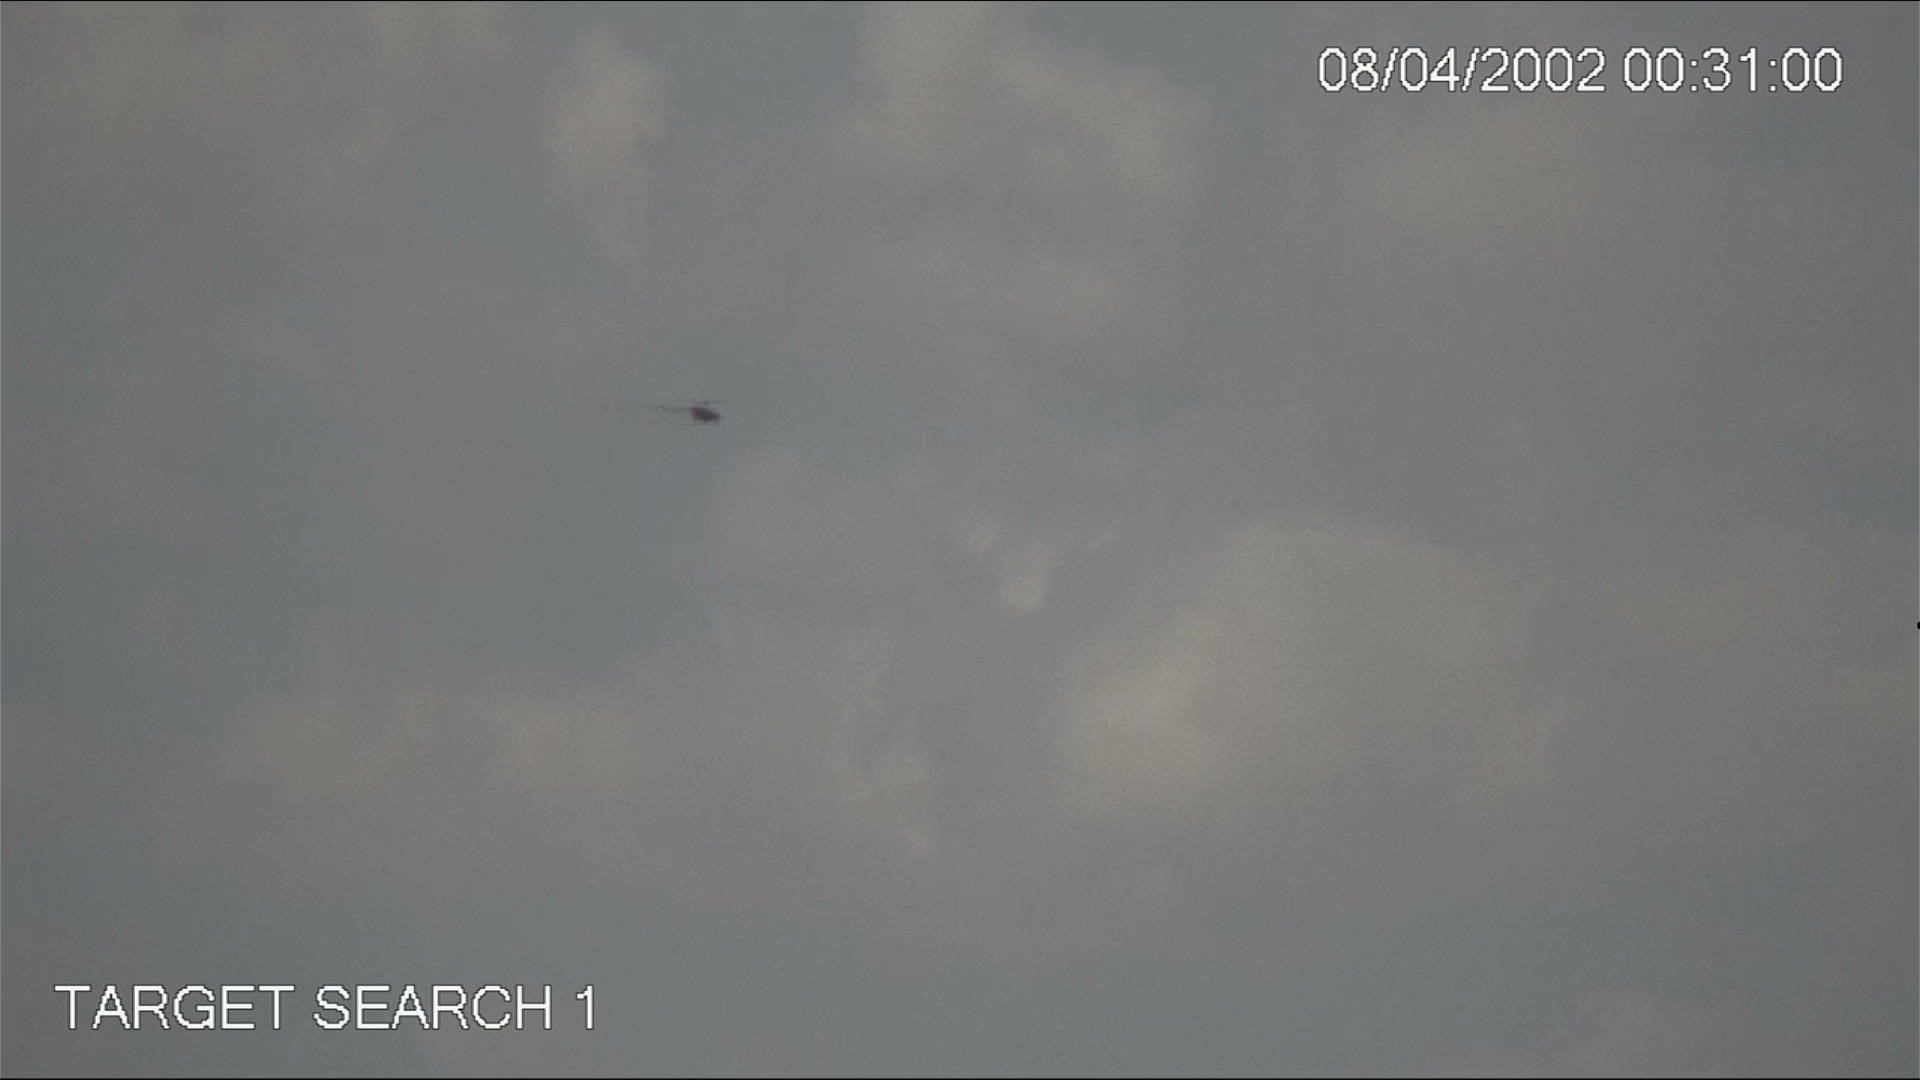SU_30: (654, 390, 728, 429)
